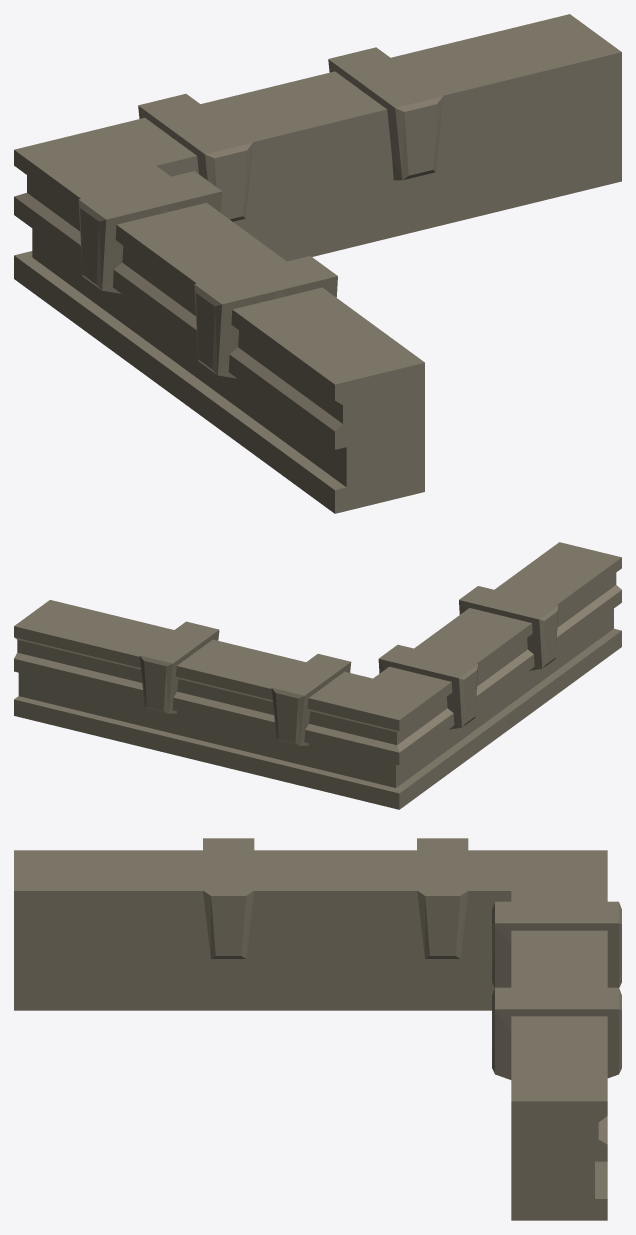
File: TempleFrameC_B.fbx
The picture shows the model from 3 angles, top to bottom: view 1: azimuth 30°, elevation 25°; view 2: azimuth 150°, elevation 25°; view 3: azimuth 270°, elevation 25°; orthographic projection. The views are drawn at different scales.
Visible parts, largest first — view 1: TempleFrameC_B01, TempleFrameC_B02; view 2: TempleFrameC_B01, TempleFrameC_B02; view 3: TempleFrameC_B01, TempleFrameC_B02.
Part boxes in pixels (left/top/right/bottom): TempleFrameC_B01: left=14, top=14, right=621, bottom=513; TempleFrameC_B02: left=78, top=47, right=443, bottom=378; TempleFrameC_B01: left=14, top=542, right=621, bottom=809; TempleFrameC_B02: left=139, top=586, right=558, bottom=745; TempleFrameC_B01: left=14, top=850, right=607, bottom=1220; TempleFrameC_B02: left=203, top=838, right=621, bottom=1079.
Size of the model in its own units: 489 by 113 by 489.
